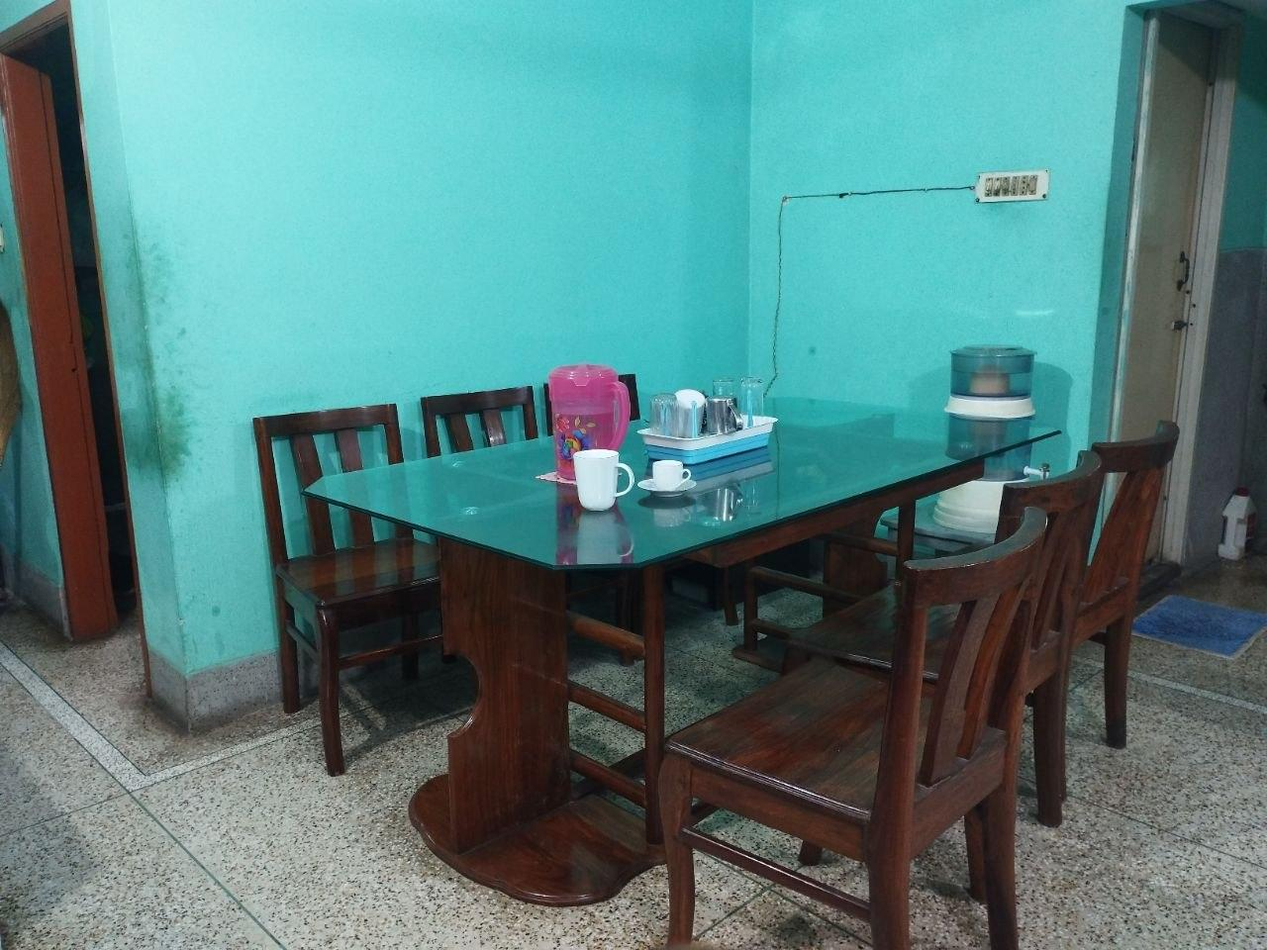Chair: (640, 472, 1049, 950), (773, 422, 1118, 833), (230, 387, 462, 801), (1059, 385, 1182, 775), (410, 371, 543, 462), (559, 351, 662, 426)
Cup: (627, 453, 714, 503)
Door: (1124, 0, 1243, 577)
Floor Mat: (1138, 551, 1265, 684)
Glass: (567, 431, 645, 519), (686, 365, 789, 430)
Jug: (534, 336, 639, 514)
Table: (301, 407, 1071, 916)
